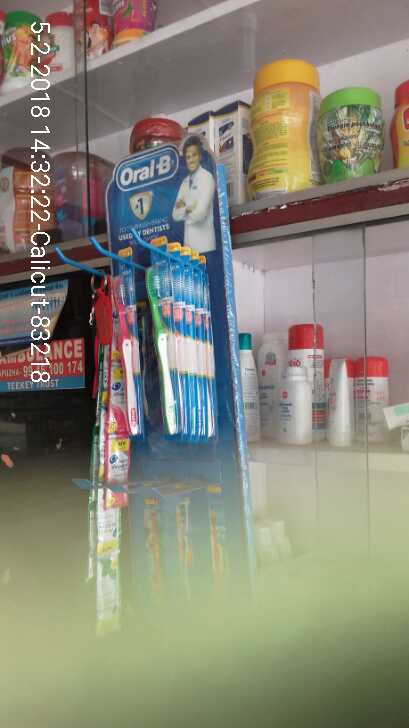oralb: (144, 251, 221, 445)
